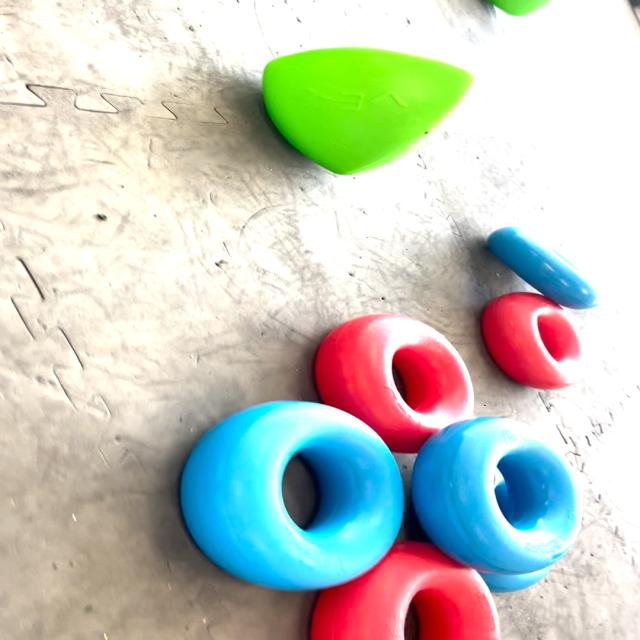Blue-Ring: (180, 401, 402, 590), (411, 418, 578, 575), (487, 226, 598, 309)
Red-Ring: (316, 314, 473, 452), (311, 541, 500, 640), (482, 292, 580, 390)
